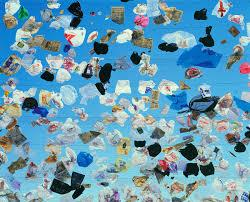Plastic bag: (1, 1, 250, 202)
